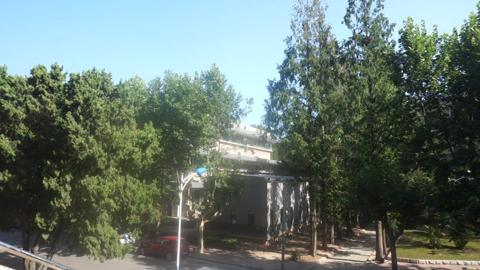UAV: (303, 194, 307, 196)
